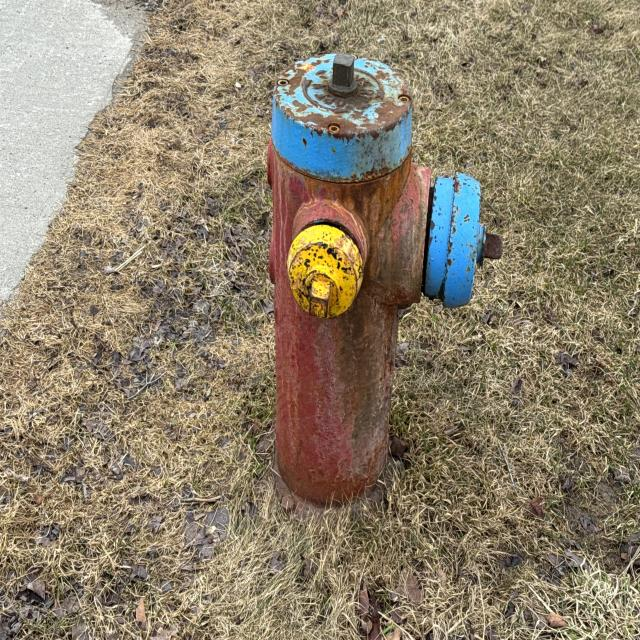Fire hydrant: (262, 51, 504, 529)
